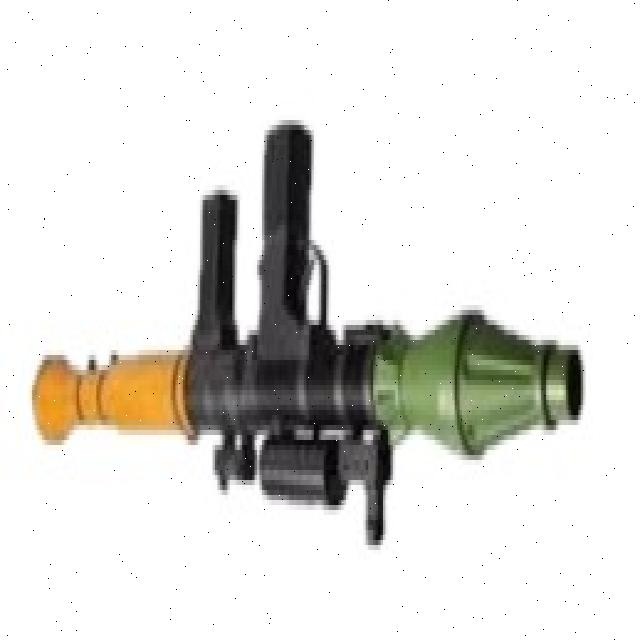bazooka: (31, 114, 587, 576)
